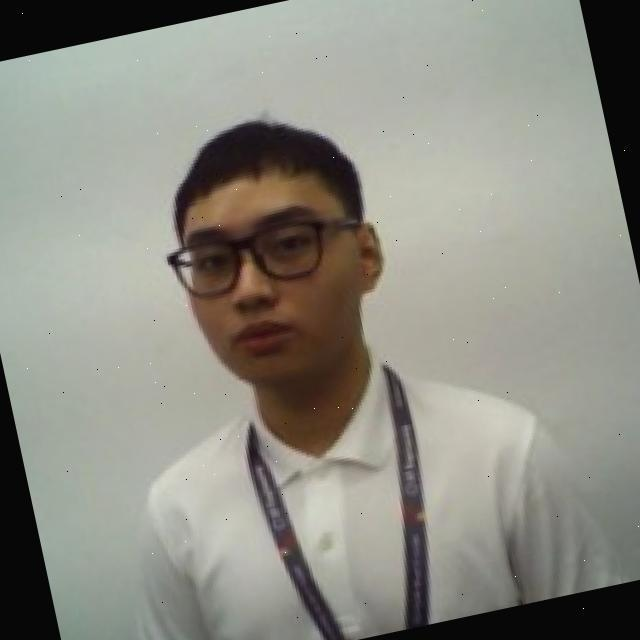no_gloves: (150, 94, 371, 256)
no_hairnet: (172, 218, 406, 404)
